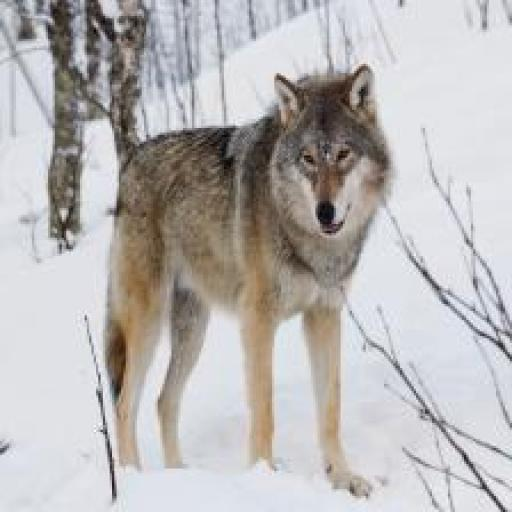wolf: (103, 60, 396, 500)
